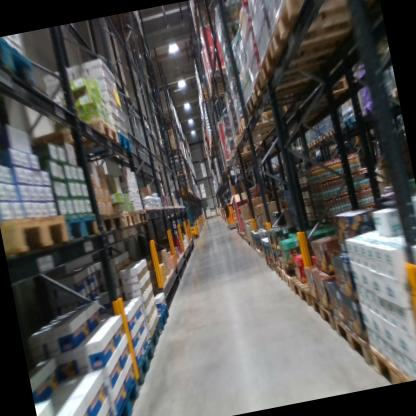forklift: (210, 150, 244, 235)
pallet: (244, 43, 370, 103), (255, 20, 369, 81), (12, 108, 120, 171), (264, 0, 375, 55), (0, 202, 73, 263), (333, 306, 378, 374), (242, 80, 323, 115), (0, 33, 41, 100), (369, 336, 416, 384), (104, 365, 146, 416), (235, 103, 296, 138), (59, 205, 100, 246), (131, 334, 162, 388), (91, 203, 128, 248), (311, 293, 337, 335), (280, 262, 312, 296), (229, 125, 276, 147), (145, 315, 170, 355), (290, 277, 316, 312), (227, 142, 261, 162), (117, 205, 138, 235), (114, 124, 133, 157), (207, 76, 234, 98), (155, 304, 172, 336), (206, 64, 230, 85), (133, 205, 150, 230), (272, 260, 284, 281), (340, 112, 357, 126), (327, 125, 342, 140), (265, 255, 276, 275), (384, 88, 397, 102), (255, 245, 267, 259), (305, 137, 317, 150), (319, 132, 330, 142), (313, 135, 323, 145), (174, 168, 186, 176), (251, 241, 258, 254), (248, 240, 254, 252), (238, 231, 245, 240), (244, 236, 248, 244)
